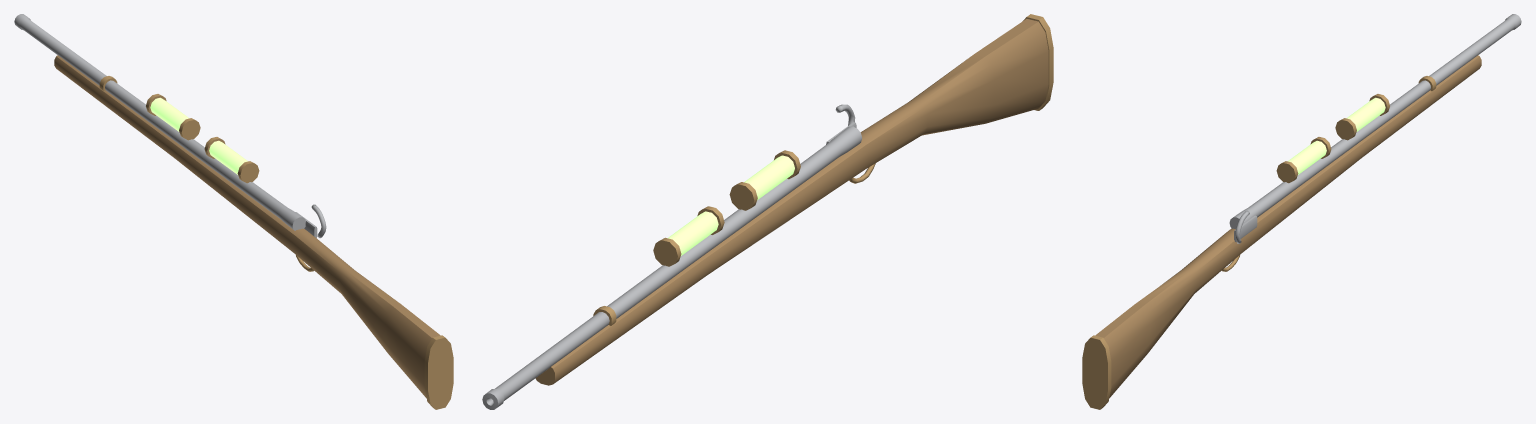
Rendered from radium-rifle.glb.
3 renders of one model, left to right at view 1: azimuth 30°, elevation 25°; view 2: azimuth 150°, elevation 25°; view 3: azimuth 330°, elevation 25°, orthographic. The views are drawn at different scales.
Visible parts, largest first — view 1: radium-rifle; view 2: radium-rifle; view 3: radium-rifle.
Boxes of the visible parts, x1,y1,x2,y2 form: radium-rifle: (14, 14, 453, 409); radium-rifle: (482, 14, 1053, 409); radium-rifle: (1082, 14, 1521, 409).
Size of the model in its own units: 0.1098 by 0.3962 by 2.86.
